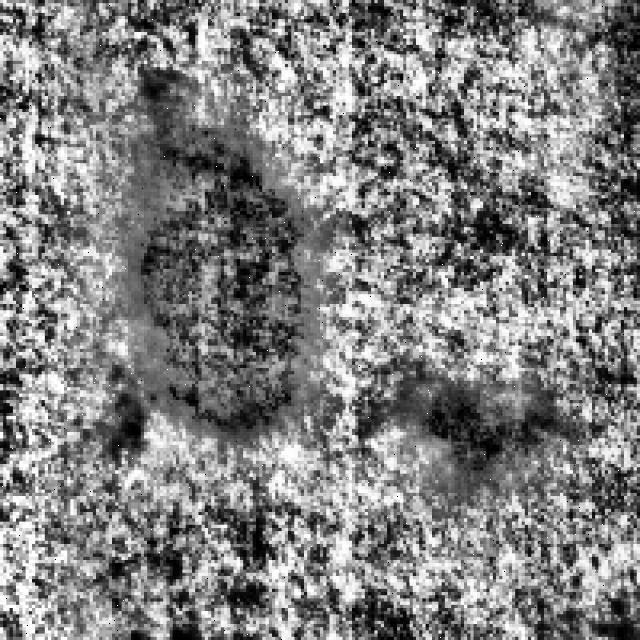Scratches: (125, 99, 333, 451), (413, 374, 579, 486)
